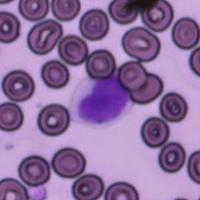M: (69, 74, 133, 127)
